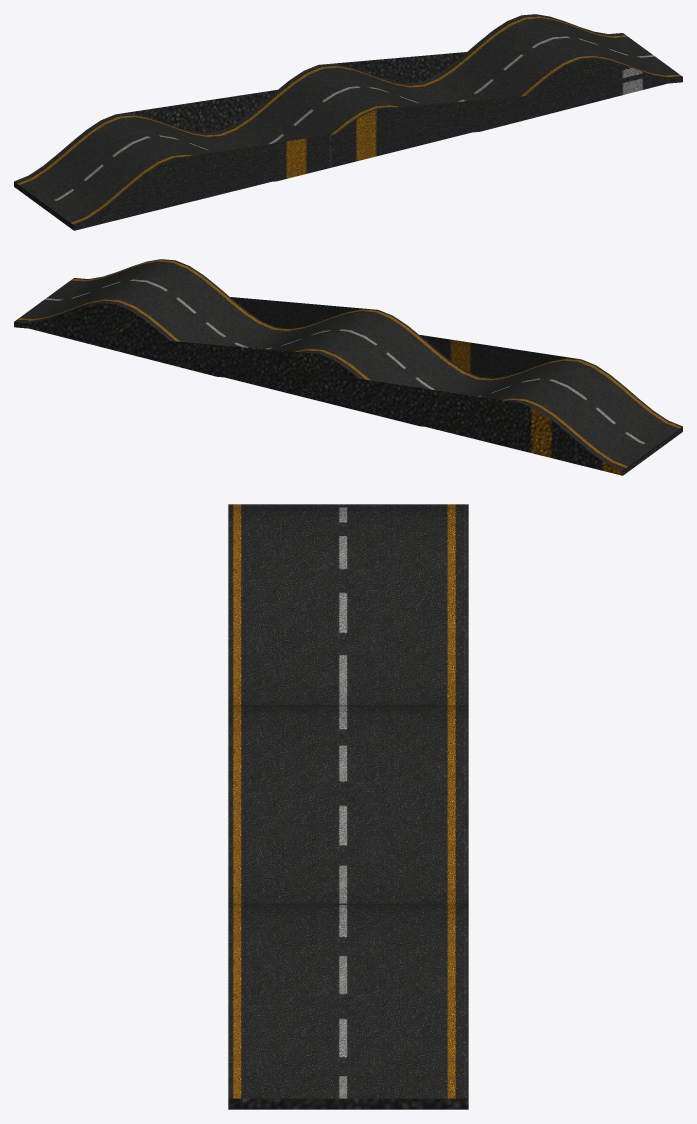
The model's file is return ramp.FBX.
3 renders of one model, top to bottom at view 1: azimuth 30°, elevation 25°; view 2: azimuth 150°, elevation 25°; view 3: azimuth 270°, elevation 25°, orthographic. The views are drawn at different scales.
Visible parts, largest first — view 1: Line005; view 2: Line005; view 3: Line005.
Boxes of the visible parts, left/top/right/bottom form: Line005: left=14, top=14, right=682, bottom=230; Line005: left=14, top=259, right=682, bottom=475; Line005: left=228, top=504, right=468, bottom=1109.
Size of the model in its own units: 272 by 20.4 by 46.5.
Materials: 1 (1 with a texture image).
